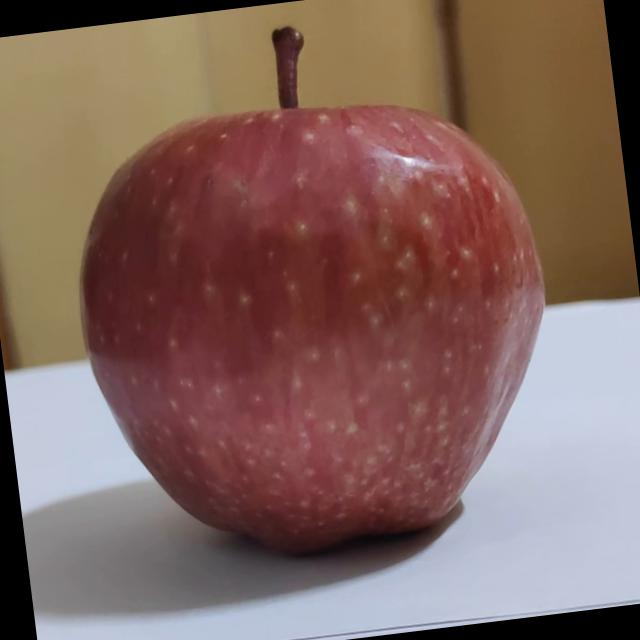apple: (41, 0, 580, 584)
